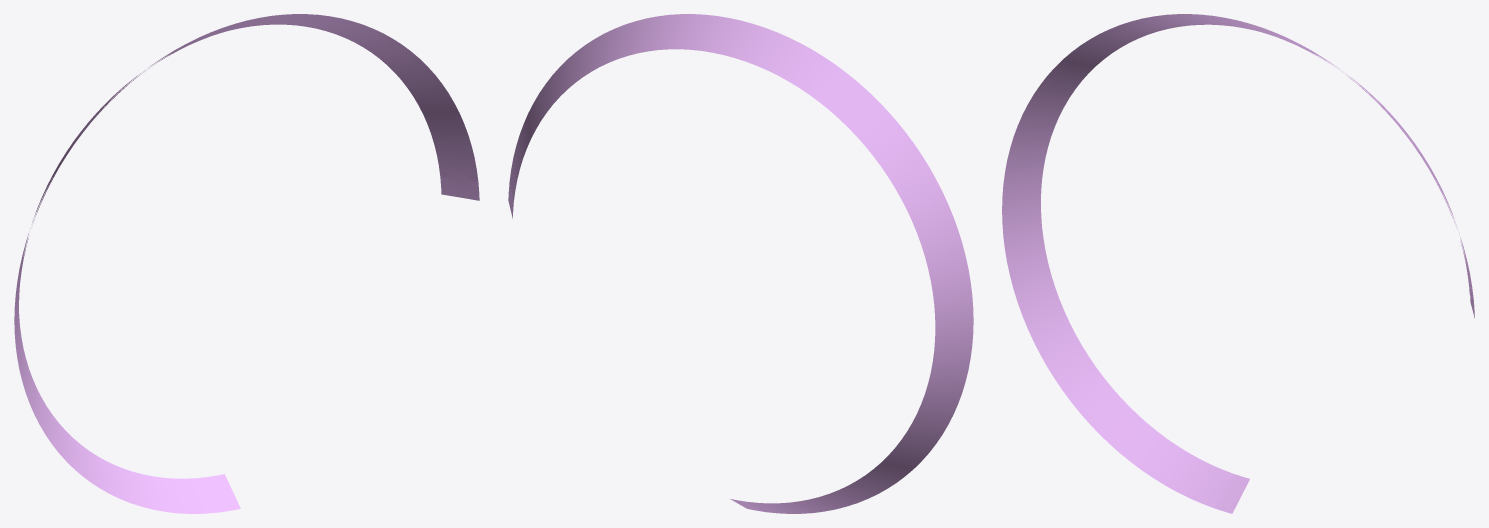
Rendered from Mesh_Note_45.fbx.
3 renders of one model, left to right at view 1: azimuth 30°, elevation 25°; view 2: azimuth 150°, elevation 25°; view 3: azimuth 330°, elevation 25°, orthographic.
Visible parts, largest first — view 1: Mesh_Note_45; view 2: Mesh_Note_45; view 3: Mesh_Note_45.
Boxes of the visible parts, box(x1,y1,x2,y2) form: Mesh_Note_45: box(14, 14, 479, 513); Mesh_Note_45: box(508, 14, 973, 513); Mesh_Note_45: box(1002, 14, 1474, 513).
Size of the model in its own units: 3.56 by 3.56 by 0.2235.
